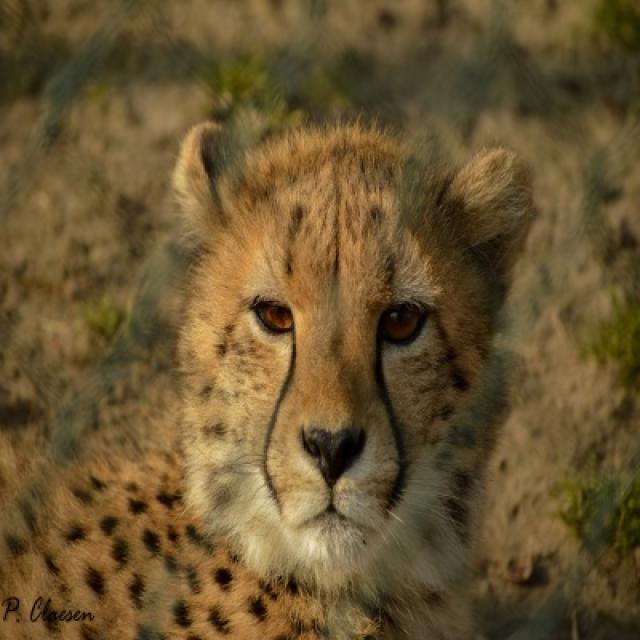Cheetah: (0, 117, 536, 638)
